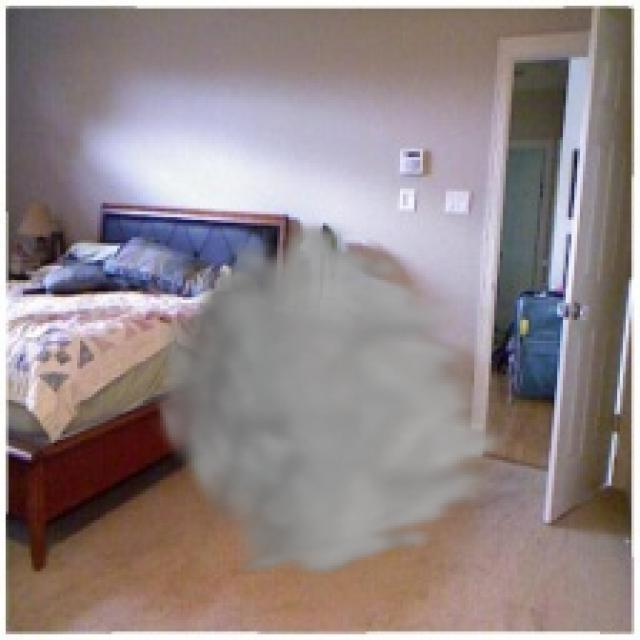Smoke: (148, 217, 520, 580)
